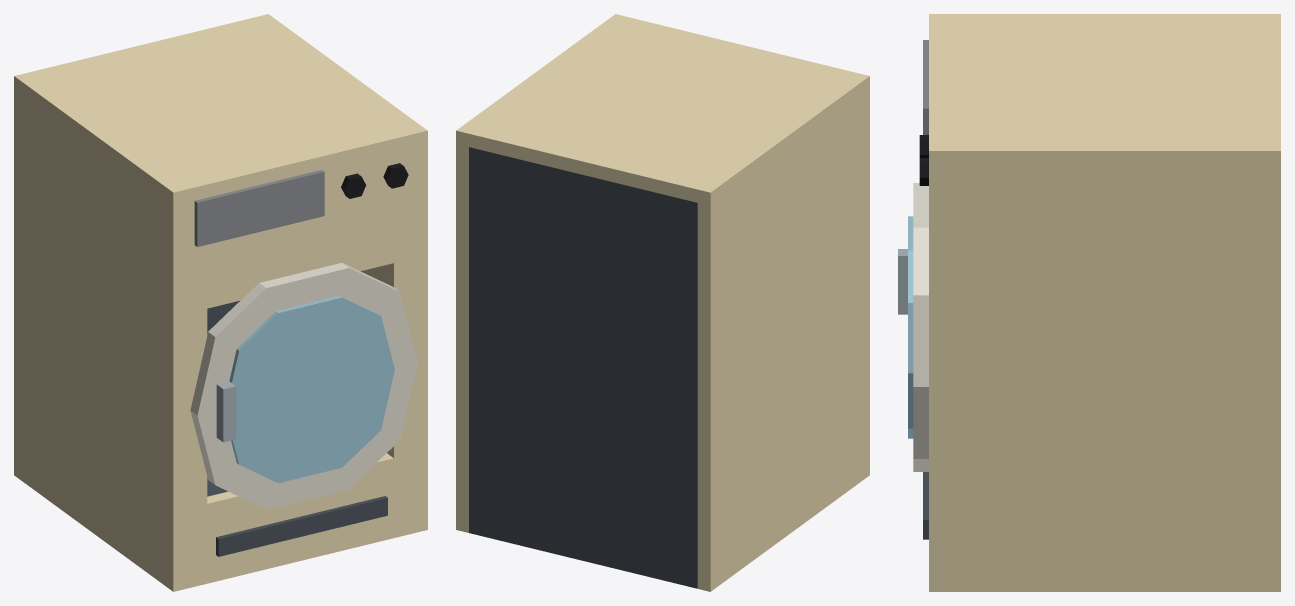
The model's file is GI_Dryer_01.glb.
3 renders of one model, left to right at view 1: azimuth 30°, elevation 25°; view 2: azimuth 150°, elevation 25°; view 3: azimuth 270°, elevation 25°, orthographic. The views are drawn at different scales.
Visible parts, largest first — view 1: GI_Dryer_01, Door; view 2: GI_Dryer_01; view 3: GI_Dryer_01, Door.
Boxes of the visible parts, x1,y1,x2,y2 form: GI_Dryer_01: [14, 14, 427, 591]; Door: [190, 263, 417, 509]; GI_Dryer_01: [456, 14, 869, 591]; GI_Dryer_01: [919, 14, 1280, 591]; Door: [898, 183, 928, 471].
Bounding box in the file's own units: 0.6 × 0.9 × 0.708.
Materials: 1 (1 with a texture image).
